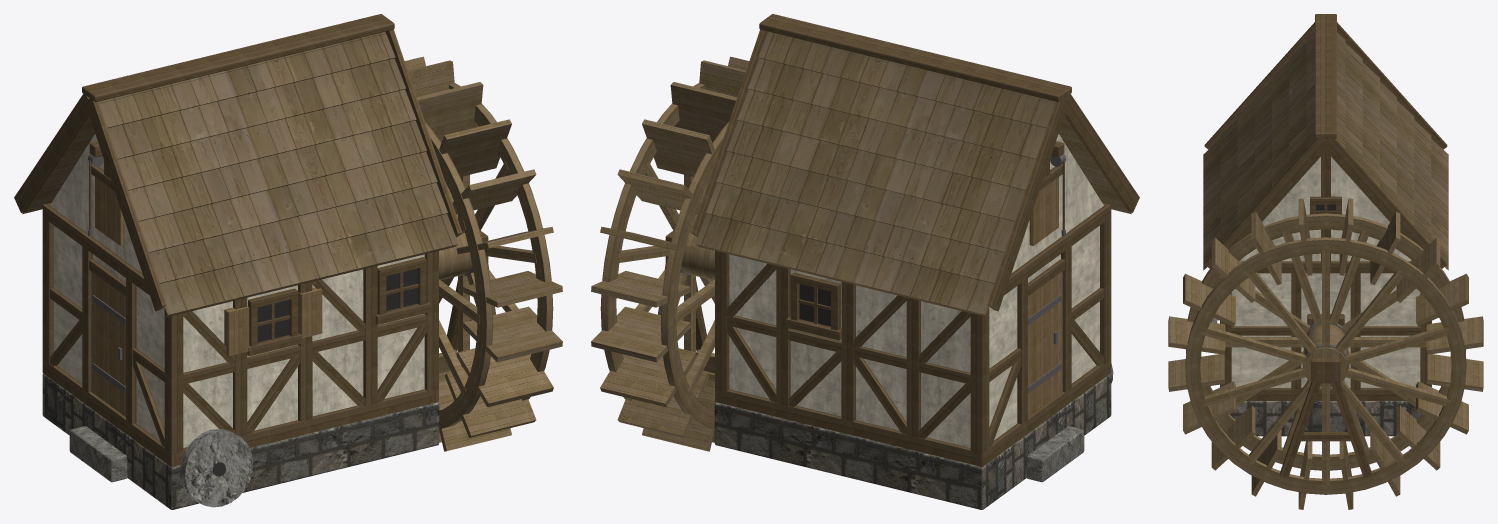
The model's file is watermill.glb.
3 renders of one model, left to right at view 1: azimuth 30°, elevation 25°; view 2: azimuth 150°, elevation 25°; view 3: azimuth 270°, elevation 25°, orthographic. The views are drawn at different scales.
Parts seen in each view (by area): view 1: prop (×2); view 2: prop (×2); view 3: prop (×2).
Part boxes in pixels (left/top/right/bottom): prop (×2): left=14, top=14, right=562, bottom=509; prop (×2): left=591, top=14, right=1139, bottom=509; prop (×2): left=1168, top=14, right=1483, bottom=509.
Size of what is drawn, in the model's own units: 3 by 3.09 by 2.55.
12 materials, 9 textured.
